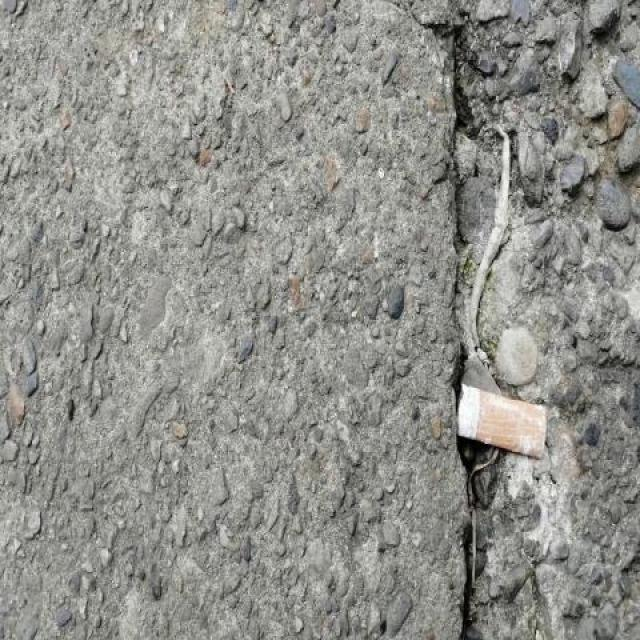non-organic waste: (453, 378, 551, 465)
